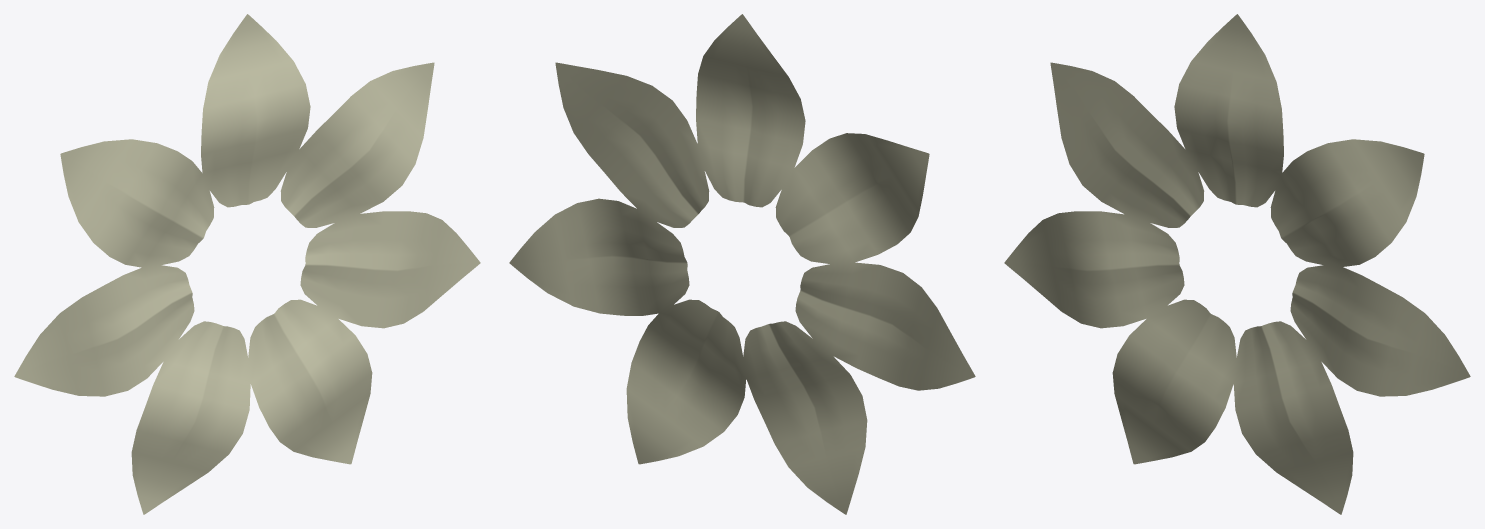
The model's file is FlowerPetal1.fbx.
3 views of the same model, side by side, from view 1: azimuth 30°, elevation 25°; view 2: azimuth 150°, elevation 25°; view 3: azimuth 330°, elevation 25° (orthographic).
Parts seen in each view (by area): view 1: Petals1; view 2: Petals1; view 3: Petals1.
Boxes of the visible parts, box(x1,y1,x2,y2) form: Petals1: box(14, 14, 480, 514); Petals1: box(509, 14, 975, 514); Petals1: box(1004, 14, 1470, 514).
Bounding box in the file's own units: 212 × 207 × 7.82.
